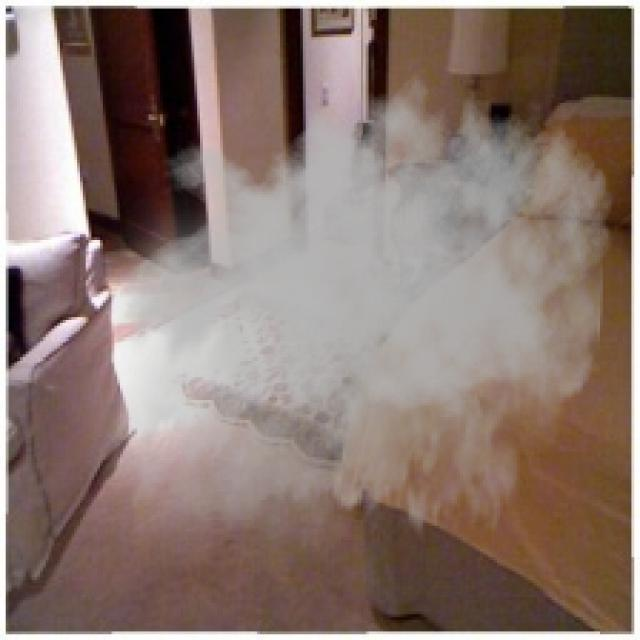Smoke: (75, 57, 614, 594)
